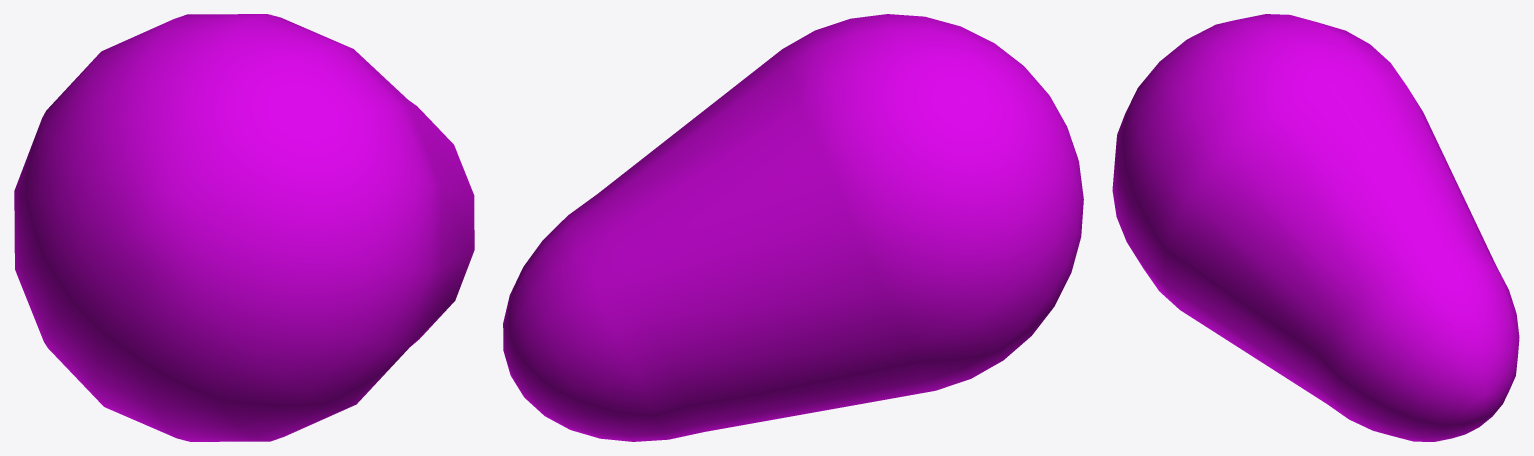
Rendered from fruit.fbx.
3 views of the same model, side by side, from view 1: azimuth 30°, elevation 25°; view 2: azimuth 150°, elevation 25°; view 3: azimuth 270°, elevation 25° (orthographic). The views are drawn at different scales.
Visible parts, largest first — view 1: pSphere5; view 2: pSphere5; view 3: pSphere5.
Part boxes in pixels (x1,y1,x2,y2): pSphere5: (14,14,474,441); pSphere5: (503,14,1083,441); pSphere5: (1112,14,1519,441).
Size of the model in its own units: 58.27 by 47.19 by 53.16.
